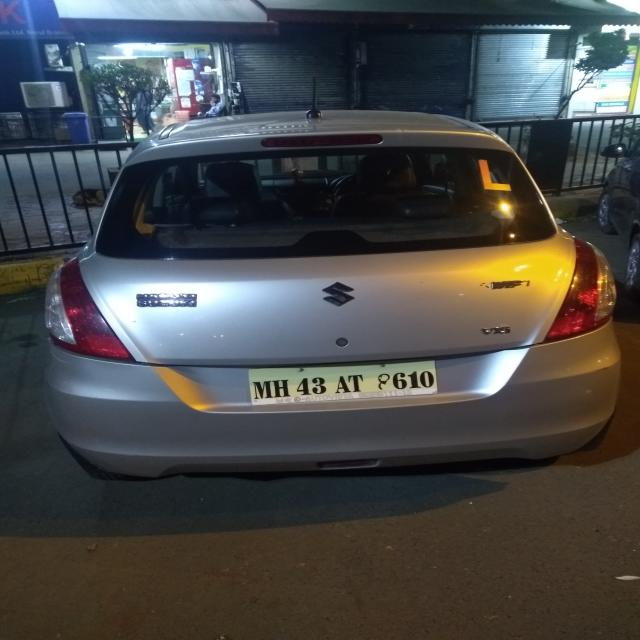Number-Plate: (247, 362, 442, 402)
